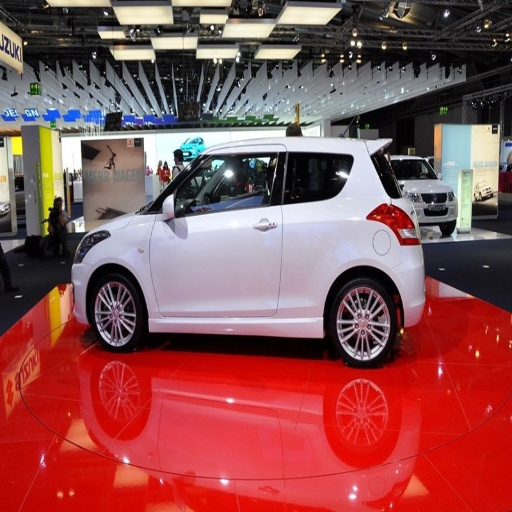back_left_door: (284, 151, 318, 266)
front_left_door: (151, 151, 283, 315)
